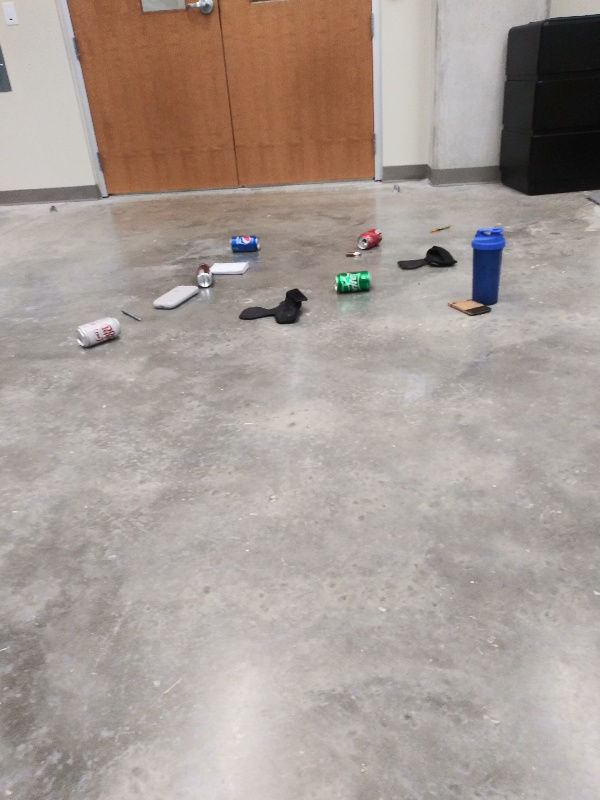can: (69, 315, 127, 350), (331, 268, 378, 297), (228, 233, 264, 257), (357, 227, 385, 254), (194, 261, 214, 292)
